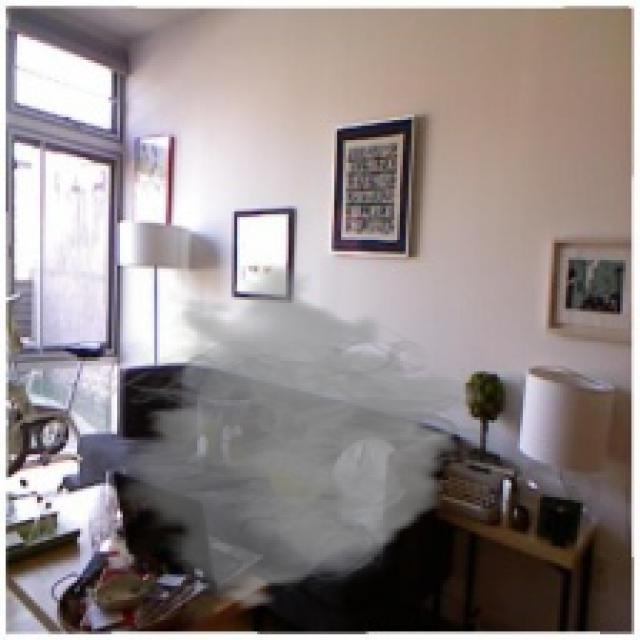Smoke: (82, 263, 498, 612)
